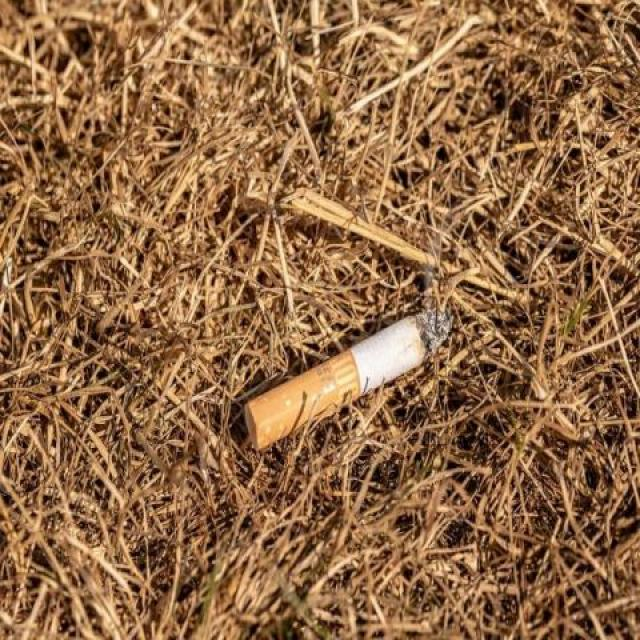non-organic waste: (234, 298, 463, 458)
